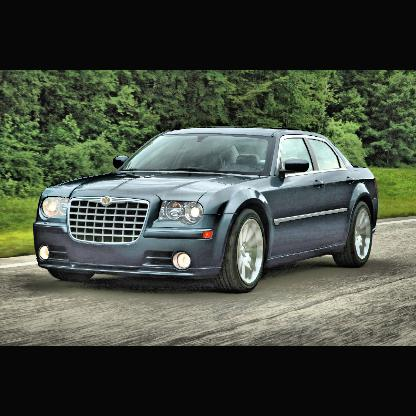Chrysler 300 SRT-8 2010: (32, 125, 381, 297)
